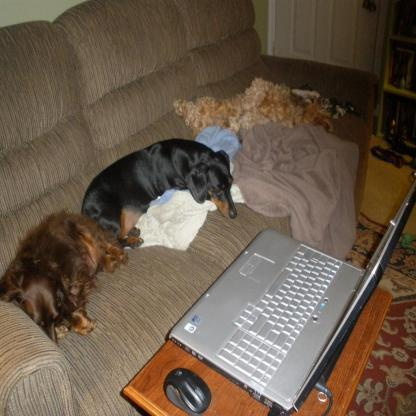board: (168, 181, 416, 413)
